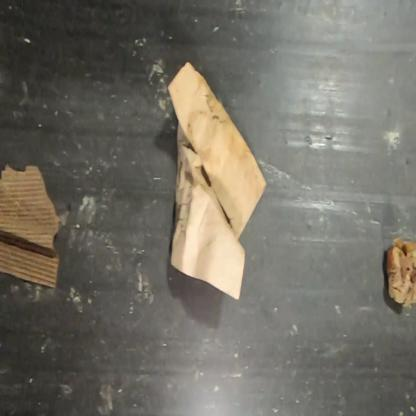cardboard: (166, 62, 268, 302), (0, 161, 61, 290)
